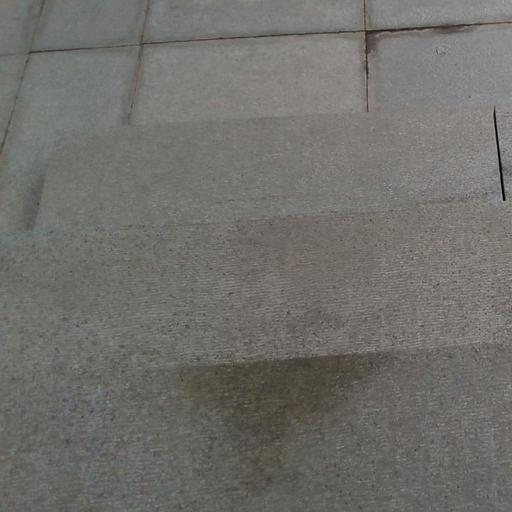stairs: (0, 111, 511, 511)
